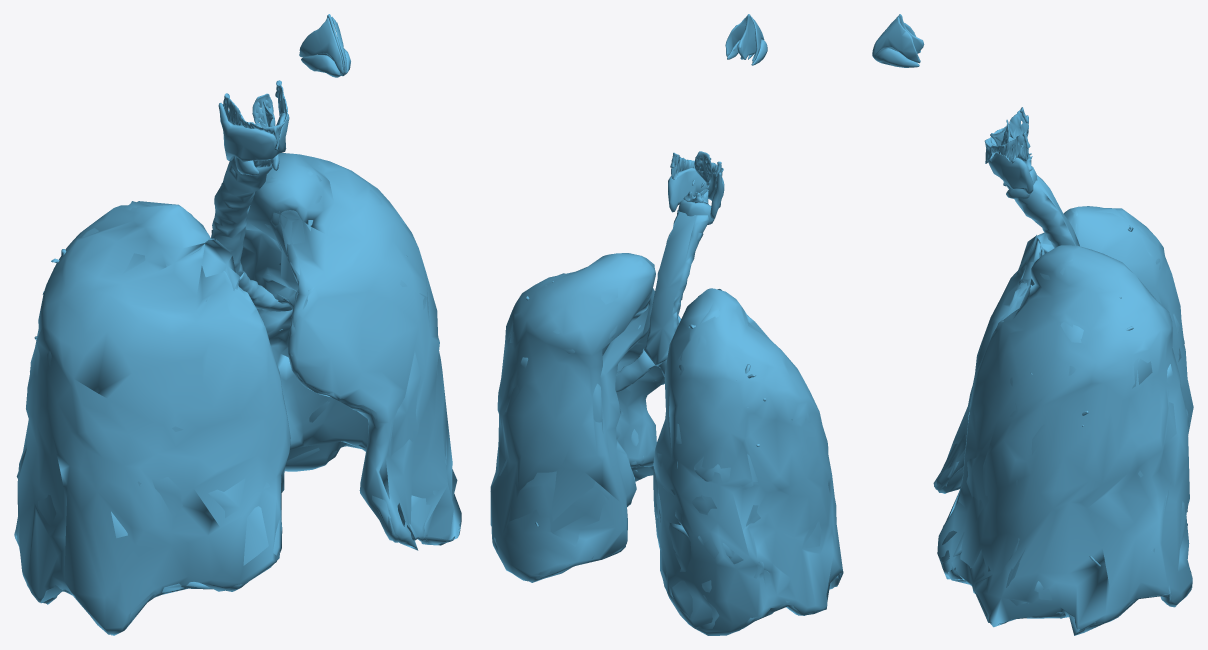
The model's file is respiratory.glb.
3 views of the same model, side by side, from view 1: azimuth 30°, elevation 25°; view 2: azimuth 150°, elevation 25°; view 3: azimuth 270°, elevation 25° (orthographic). The views are drawn at different scales.
Visible parts, largest first — view 1: W_SOMA_visceral_pleura_R, W_SOMA_visceral_pleura_L, W_R3_FMA7370, W_FJ2541, W_R3_FMA7383, VF_thyroid_cartilage, W_R3_FMA7333, W_R3_FMA7371, W_R3_FMA7337, W_FJ2558, W_FJ2450; view 2: W_SOMA_visceral_pleura_R, W_SOMA_visceral_pleura_L, W_R3_FMA7337, W_FJ2541, W_R3_FMA7371, VF_thyroid_cartilage, W_FJ2450, W_R3_FMA7370, W_FJ2557, W_R3_FMA7333; view 3: W_SOMA_visceral_pleura_L, W_SOMA_visceral_pleura_R, W_R3_FMA7371, W_R3_FMA7370, W_FJ2541, VF_thyroid_cartilage, W_FJ2556, W_R3_FMA7333, W_FJ2786, W_FJ2555.
Part boxes in pixels (x1,y1,x2,y2): W_SOMA_visceral_pleura_R: (14, 201, 290, 635); W_SOMA_visceral_pleura_L: (240, 153, 461, 550); W_R3_FMA7370: (265, 165, 437, 542); W_FJ2541: (211, 156, 272, 276); W_R3_FMA7383: (137, 476, 281, 591); VF_thyroid_cartilage: (218, 103, 288, 161); W_R3_FMA7333: (46, 201, 264, 431); W_R3_FMA7371: (279, 329, 460, 545); W_R3_FMA7337: (15, 365, 212, 635); W_FJ2558: (299, 17, 343, 74); W_FJ2450: (238, 271, 291, 311); W_SOMA_visceral_pleura_R: (653, 288, 843, 635); W_SOMA_visceral_pleura_L: (490, 253, 680, 581); W_R3_FMA7337: (655, 423, 840, 634); W_FJ2541: (644, 210, 708, 366); W_R3_FMA7371: (490, 357, 634, 582); VF_thyroid_cartilage: (668, 167, 724, 218); W_FJ2450: (615, 348, 656, 392); W_R3_FMA7370: (507, 254, 679, 471); W_FJ2557: (737, 14, 761, 59); W_R3_FMA7333: (679, 288, 810, 422); W_SOMA_visceral_pleura_L: (937, 245, 1192, 630); W_SOMA_visceral_pleura_R: (933, 206, 1193, 510); W_R3_FMA7371: (943, 364, 1192, 635); W_R3_FMA7370: (941, 259, 1169, 563); W_FJ2541: (1014, 175, 1079, 247); VF_thyroid_cartilage: (988, 115, 1033, 194); W_FJ2556: (872, 17, 920, 63); W_R3_FMA7333: (999, 208, 1160, 319); W_FJ2786: (991, 133, 1028, 163); W_FJ2555: (874, 48, 919, 67).
Size of the model in its own units: 0.2603 by 0.3853 by 0.2036.
